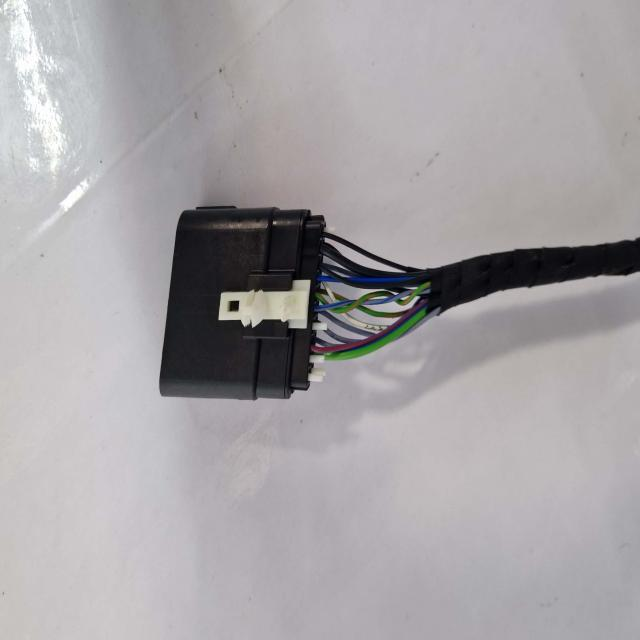Connector: (172, 204, 311, 397)
Gape: (322, 236, 430, 370)
MHEV_N11_Cable: (431, 240, 622, 314)
